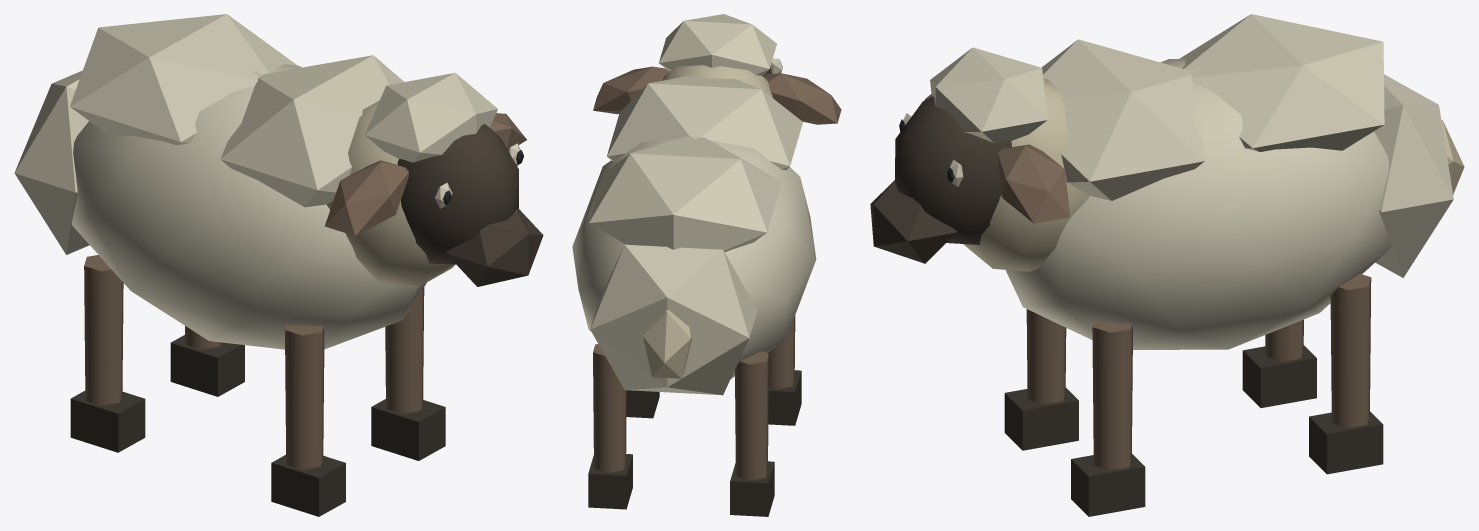
File: sheep.glb
3 renders of one model, left to right at view 1: azimuth 30°, elevation 25°; view 2: azimuth 150°, elevation 25°; view 3: azimuth 270°, elevation 25°, orthographic. The views are drawn at different scales.
Parts seen in each view (by area): view 1: sheep; view 2: sheep; view 3: sheep.
Boxes of the visible parts, <box> form: sheep: <box>14,14,543,516</box>; sheep: <box>572,14,841,516</box>; sheep: <box>870,14,1464,516</box>.
Size of the model in its own units: 1.2 by 1.37 by 1.75.
